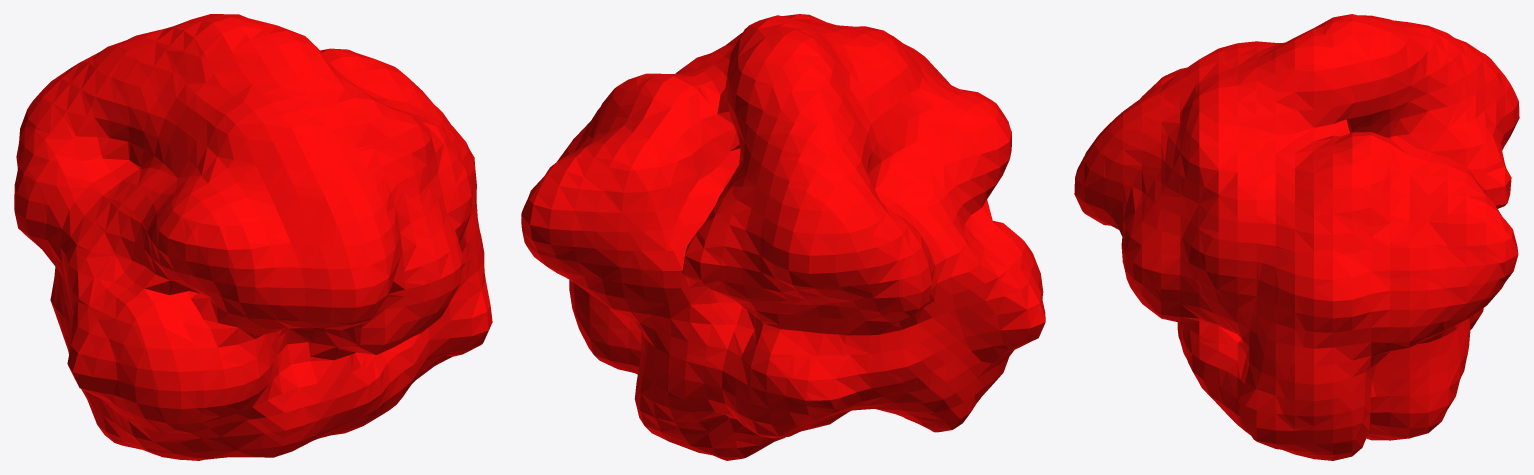
File: nuoH_coarse.dae
The picture shows the model from 3 angles, left to right: view 1: azimuth 30°, elevation 25°; view 2: azimuth 150°, elevation 25°; view 3: azimuth 270°, elevation 25°; orthographic projection. The views are drawn at different scales.
Parts seen in each view (by area): view 1: nuoH; view 2: nuoH; view 3: nuoH.
Part boxes in pixels (x1=…): nuoH: x1=14, y1=14, x2=492, y2=460; nuoH: x1=521, y1=14, x2=1045, y2=460; nuoH: x1=1074, y1=14, x2=1519, y2=460.
Bounding box in the file's own units: 58.87 × 53.36 × 54.15.
